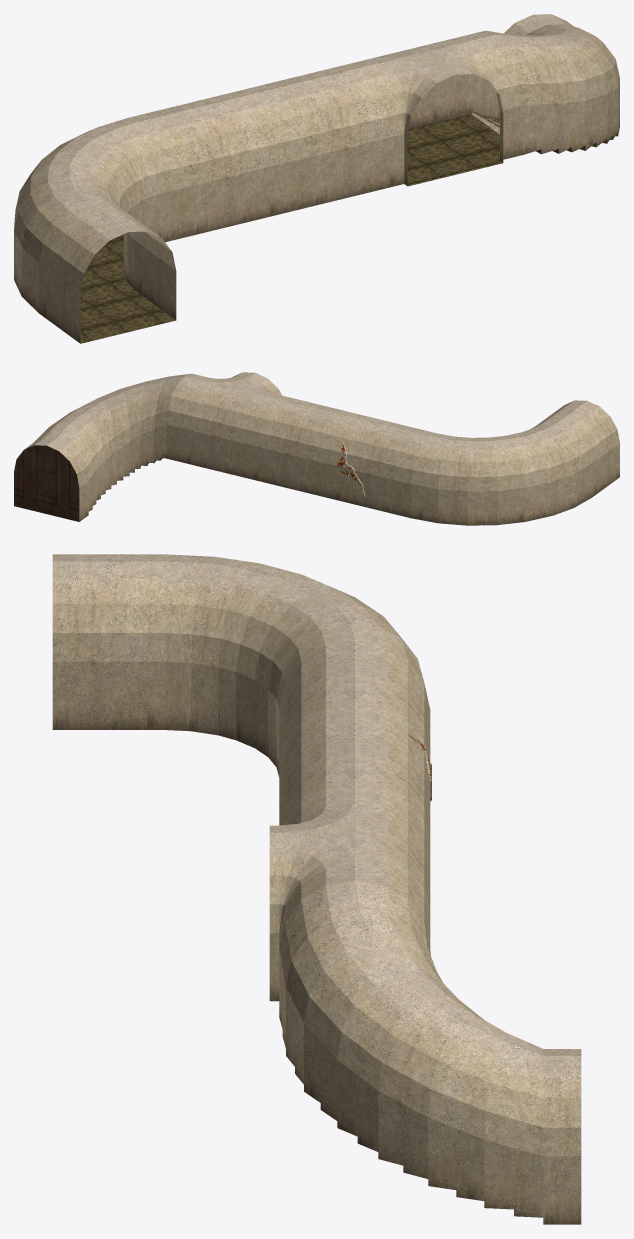
The model's file is thm_tato_jabbas_palace_r15_hall6_mesh_r15.fbx.
3 renders of one model, top to bottom at view 1: azimuth 30°, elevation 25°; view 2: azimuth 150°, elevation 25°; view 3: azimuth 270°, elevation 25°, orthographic. The views are drawn at different scales.
Parts seen in each view (by area): view 1: mesh_node; view 2: mesh_node; view 3: mesh_node.
Part boxes in pixels (box(x1,y1,x2,y2)): mesh_node: box(14, 14, 619, 343); mesh_node: box(14, 372, 619, 525); mesh_node: box(52, 554, 581, 1224).
Size of the model in its own units: 29 by 6.8 by 14.
